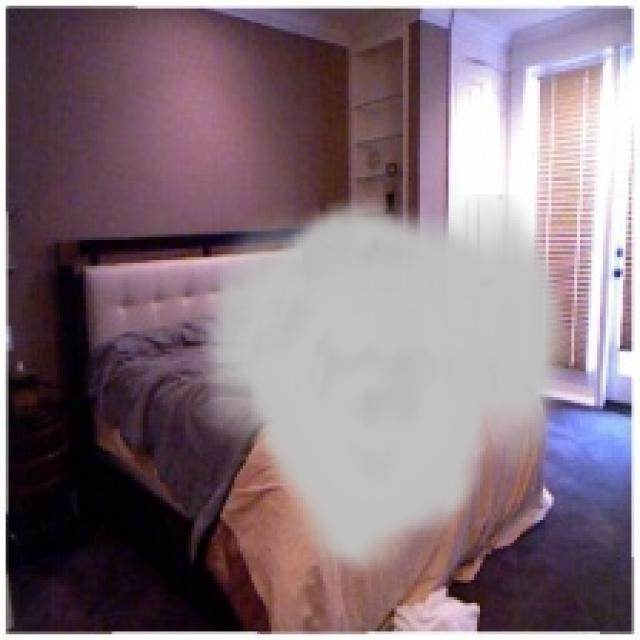Smoke: (188, 195, 572, 580)
